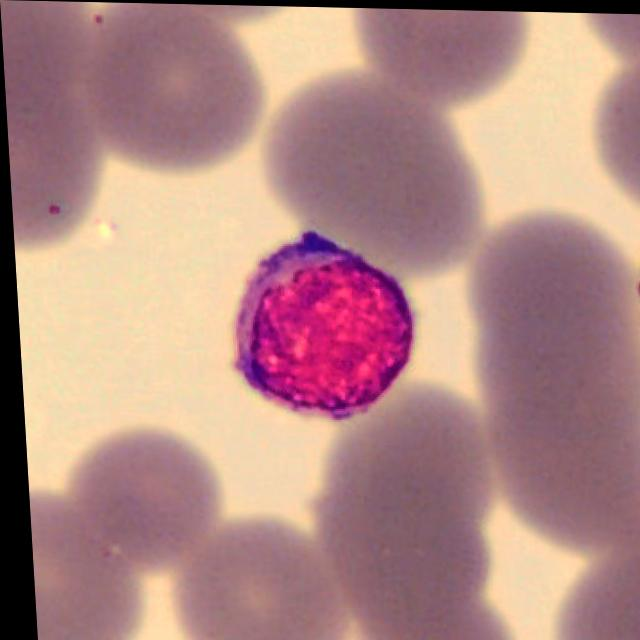Linfocito: (230, 230, 407, 421)
